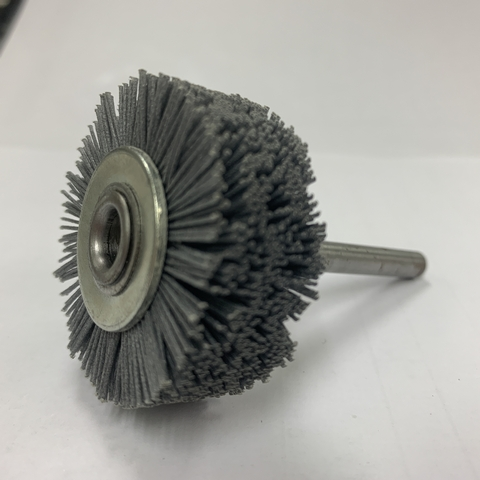Wheel Brush: (56, 67, 449, 415), (37, 61, 438, 402), (45, 69, 321, 418)
